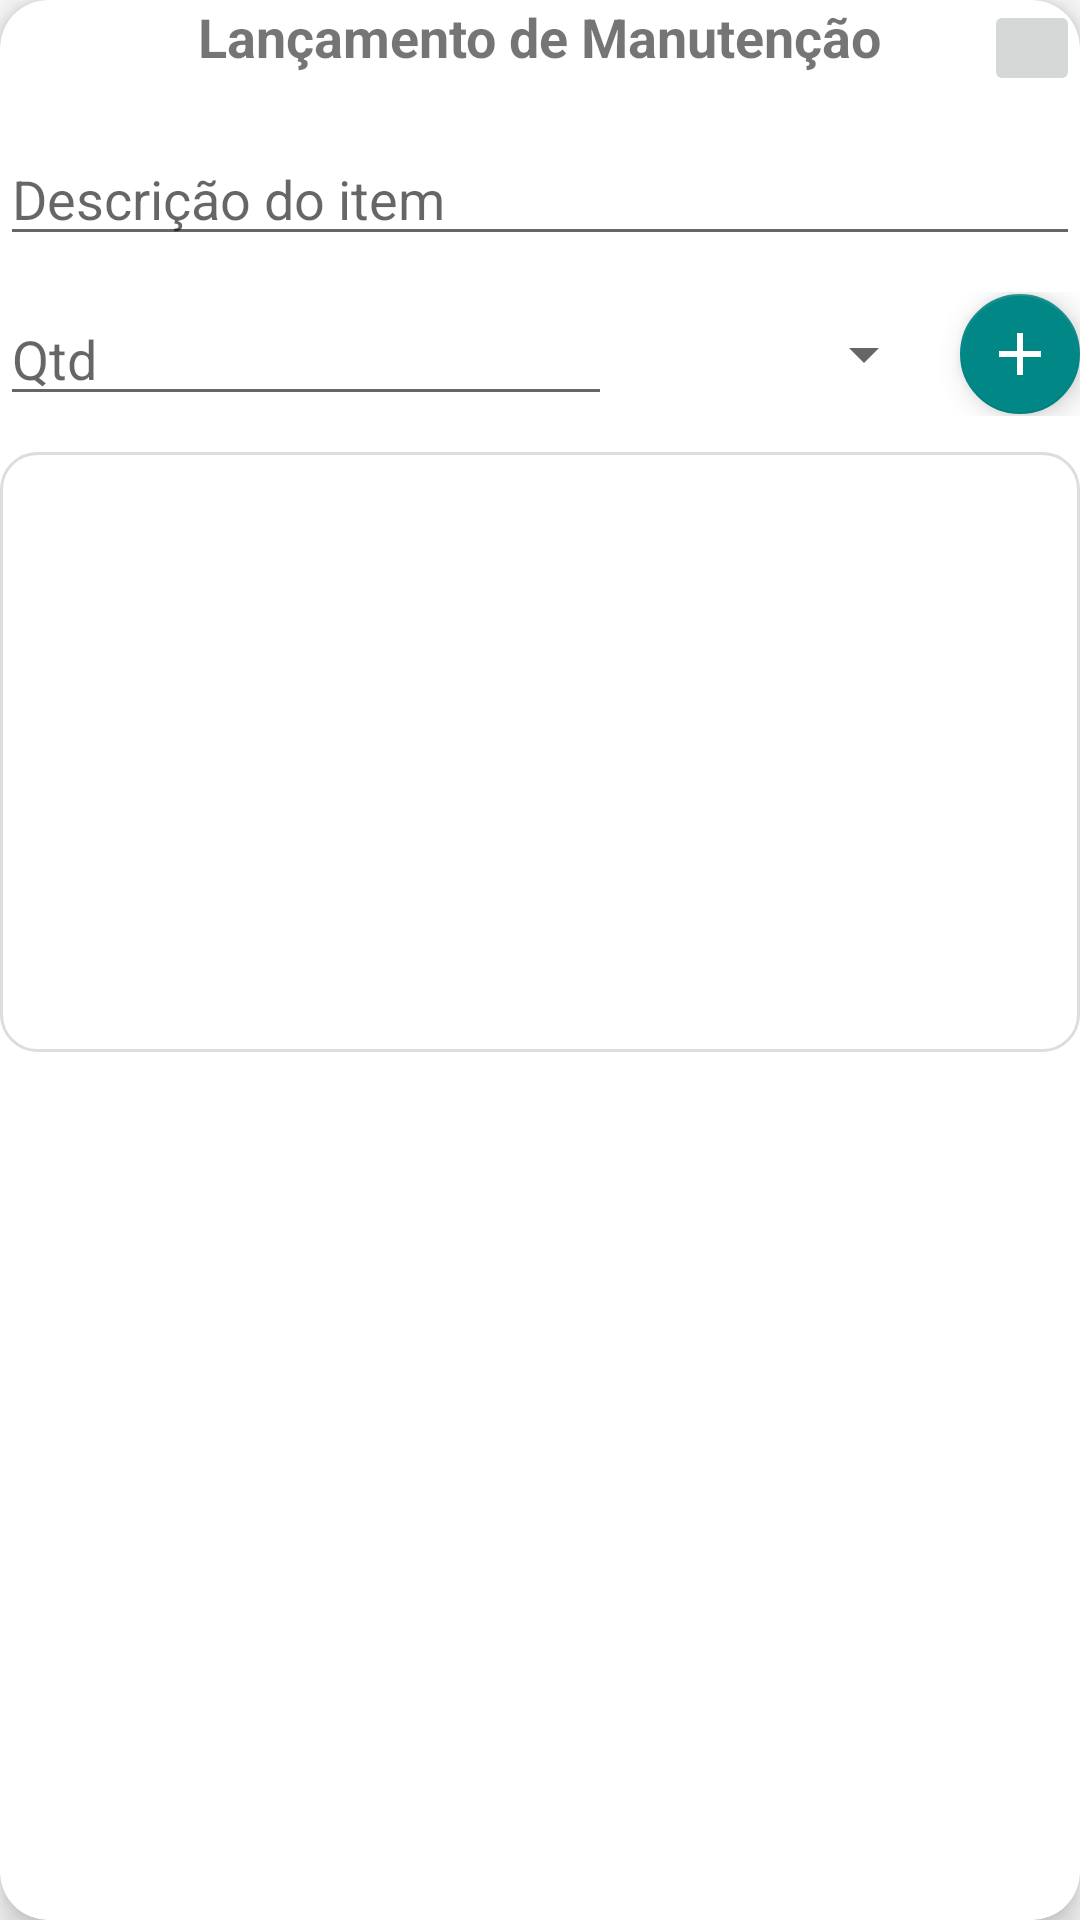

Icons on this 1080w x 1920h Android screen, each with the point to tap as (x=x, y=y):
add item: (x=1020, y=354)
